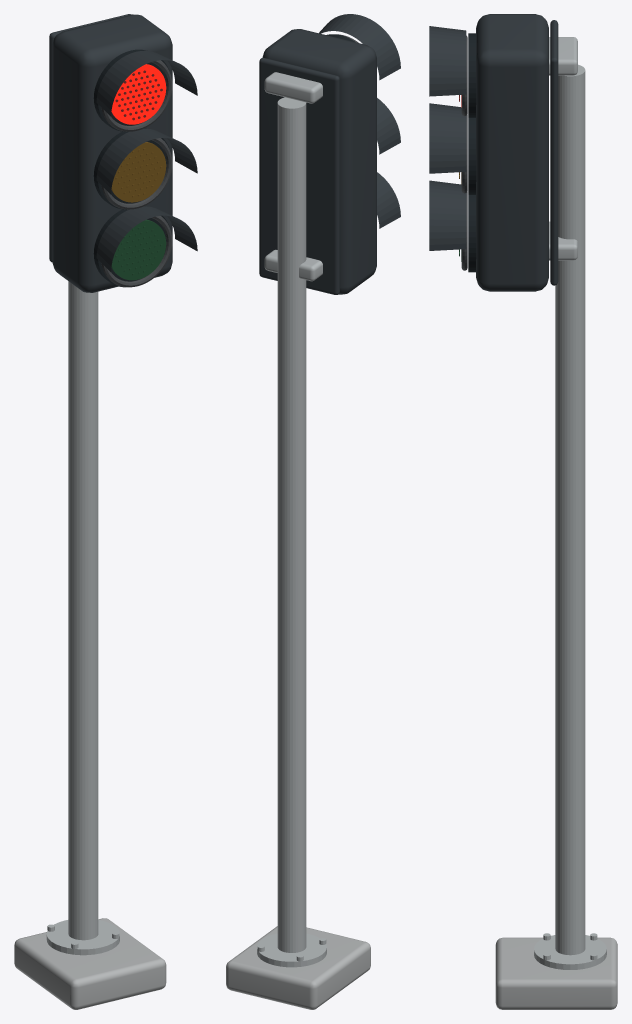
The model's file is r7a-sygnalizator-led-3.glb.
The picture shows the model from 3 angles, left to right: view 1: azimuth 30°, elevation 25°; view 2: azimuth 150°, elevation 25°; view 3: azimuth 270°, elevation 25°; orthographic projection. The views are drawn at different scales.
Visible parts, largest first — view 1: P00 steel upright, S00 IP65 three aspect case, C00 buried base just above grade, S04 LED lens diffuser, S04 LED lens diffuser.001, S04 LED lens diffuser.002, S06 curved rain hood over each lens, S06 curved rain hood over each lens.001, S06 curved rain hood over each lens.002, P01 base flange, S01 rear hinged service cover, S03 circular bezel (+5 smaller); view 2: P00 steel upright, S00 IP65 three aspect case, S01 rear hinged service cover, C00 buried base just above grade, S06 curved rain hood over each lens, P01 base flange, P03 clamp bracket.001, S06 curved rain hood over each lens.001, S06 curved rain hood over each lens.002, P03 clamp bracket; view 3: P00 steel upright, S00 IP65 three aspect case, C00 buried base just above grade, S06 curved rain hood over each lens, S06 curved rain hood over each lens.001, S06 curved rain hood over each lens.002, S01 rear hinged service cover, P01 base flange, P03 clamp bracket.001, S02 sealed black lamp pod, S02 sealed black lamp pod.002, S02 sealed black lamp pod.001 (+1 smaller).
Boxes of the visible parts, x1=… form: P00 steel upright: x1=68, y1=281, x2=98, y2=940; S00 IP65 three aspect case: x1=52, y1=14, x2=172, y2=292; C00 buried base just above grade: x1=14, y1=918, x2=166, y2=1009; S04 LED lens diffuser: x1=111, y1=64, x2=166, y2=124; S04 LED lens diffuser.001: x1=111, y1=142, x2=166, y2=202; S04 LED lens diffuser.002: x1=111, y1=219, x2=166, y2=280; S06 curved rain hood over each lens: x1=96, y1=50, x2=197, y2=116; S06 curved rain hood over each lens.001: x1=96, y1=128, x2=197, y2=194; S06 curved rain hood over each lens.002: x1=96, y1=206, x2=197, y2=271; P01 base flange: x1=46, y1=919, x2=119, y2=955; S01 rear hinged service cover: x1=49, y1=14, x2=131, y2=262; S03 circular bezel: x1=101, y1=60, x2=172, y2=131; P00 steel upright: x1=277, y1=97, x2=306, y2=952; S00 IP65 three aspect case: x1=262, y1=29, x2=376, y2=294; S01 rear hinged service cover: x1=259, y1=58, x2=339, y2=294; C00 buried base just above grade: x1=226, y1=926, x2=370, y2=1009; S06 curved rain hood over each lens: x1=319, y1=14, x2=400, y2=80; P01 base flange: x1=257, y1=933, x2=326, y2=967; P03 clamp bracket.001: x1=264, y1=72, x2=322, y2=103; S06 curved rain hood over each lens.001: x1=377, y1=98, x2=400, y2=154; S06 curved rain hood over each lens.002: x1=377, y1=172, x2=400, y2=228; P03 clamp bracket: x1=264, y1=249, x2=322, y2=281; P00 steel upright: x1=555, y1=64, x2=585, y2=955; S00 IP65 three aspect case: x1=476, y1=14, x2=548, y2=291; C00 buried base just above grade: x1=495, y1=937, x2=617, y2=1009; S06 curved rain hood over each lens: x1=429, y1=26, x2=466, y2=96; S06 curved rain hood over each lens.001: x1=429, y1=103, x2=466, y2=173; S06 curved rain hood over each lens.002: x1=429, y1=180, x2=466, y2=250; S01 rear hinged service cover: x1=550, y1=20, x2=558, y2=285; P01 base flange: x1=534, y1=935, x2=606, y2=969; P03 clamp bracket.001: x1=549, y1=37, x2=577, y2=75; S02 sealed black lamp pod: x1=468, y1=33, x2=476, y2=117; S02 sealed black lamp pod.002: x1=468, y1=195, x2=476, y2=272; S02 sealed black lamp pod.001: x1=468, y1=118, x2=476, y2=194.
Bounding box in the file's own units: 0.36 × 3.47 × 0.618.
